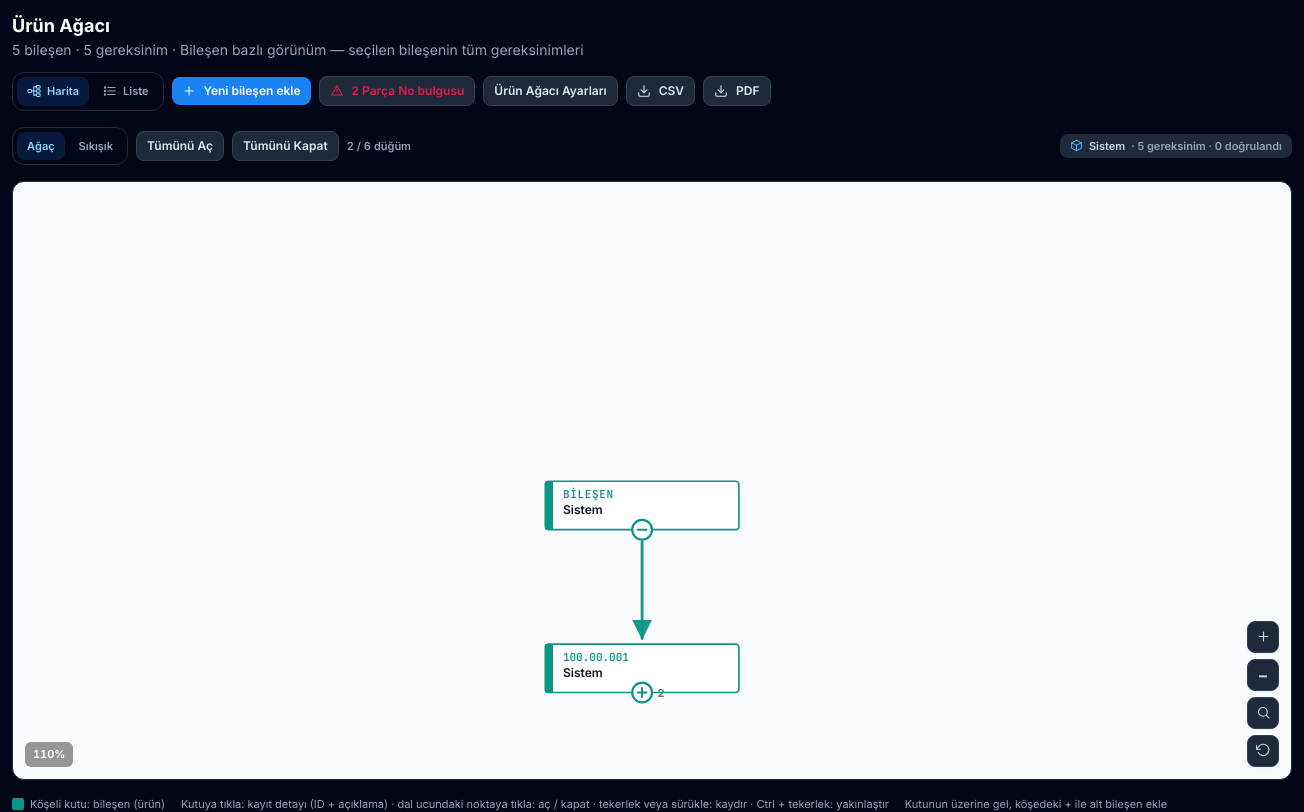
Test: Parça No — tutarlılık kontrolü › ihlaller rozette sayılır ve panelde listelenir
Click the button with test id "partno-issues": (397, 91) [319, 76, 475, 106]
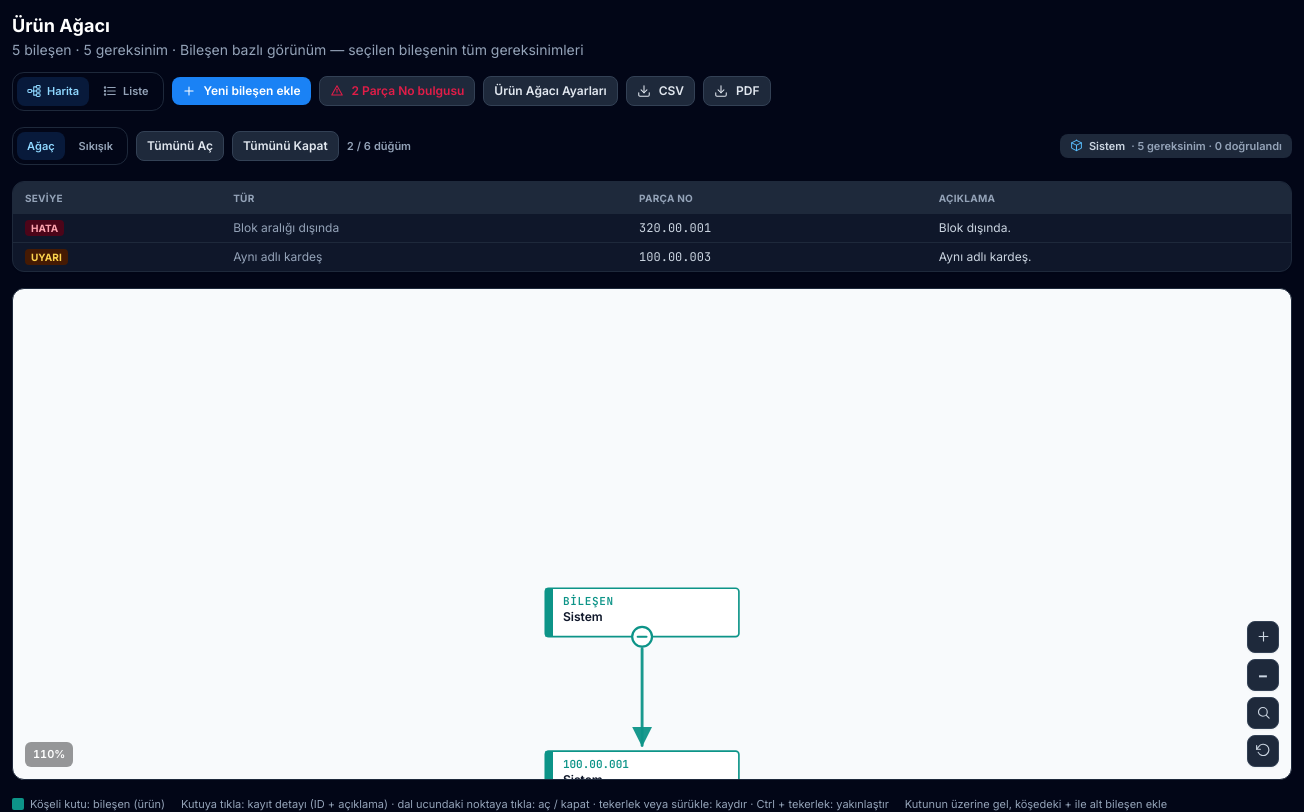
Now the text "Blok aralığı dışında" is shown, box [221, 214, 627, 242]
Now the text "Aynı adlı kardeş" is shown, box [221, 242, 627, 271]
